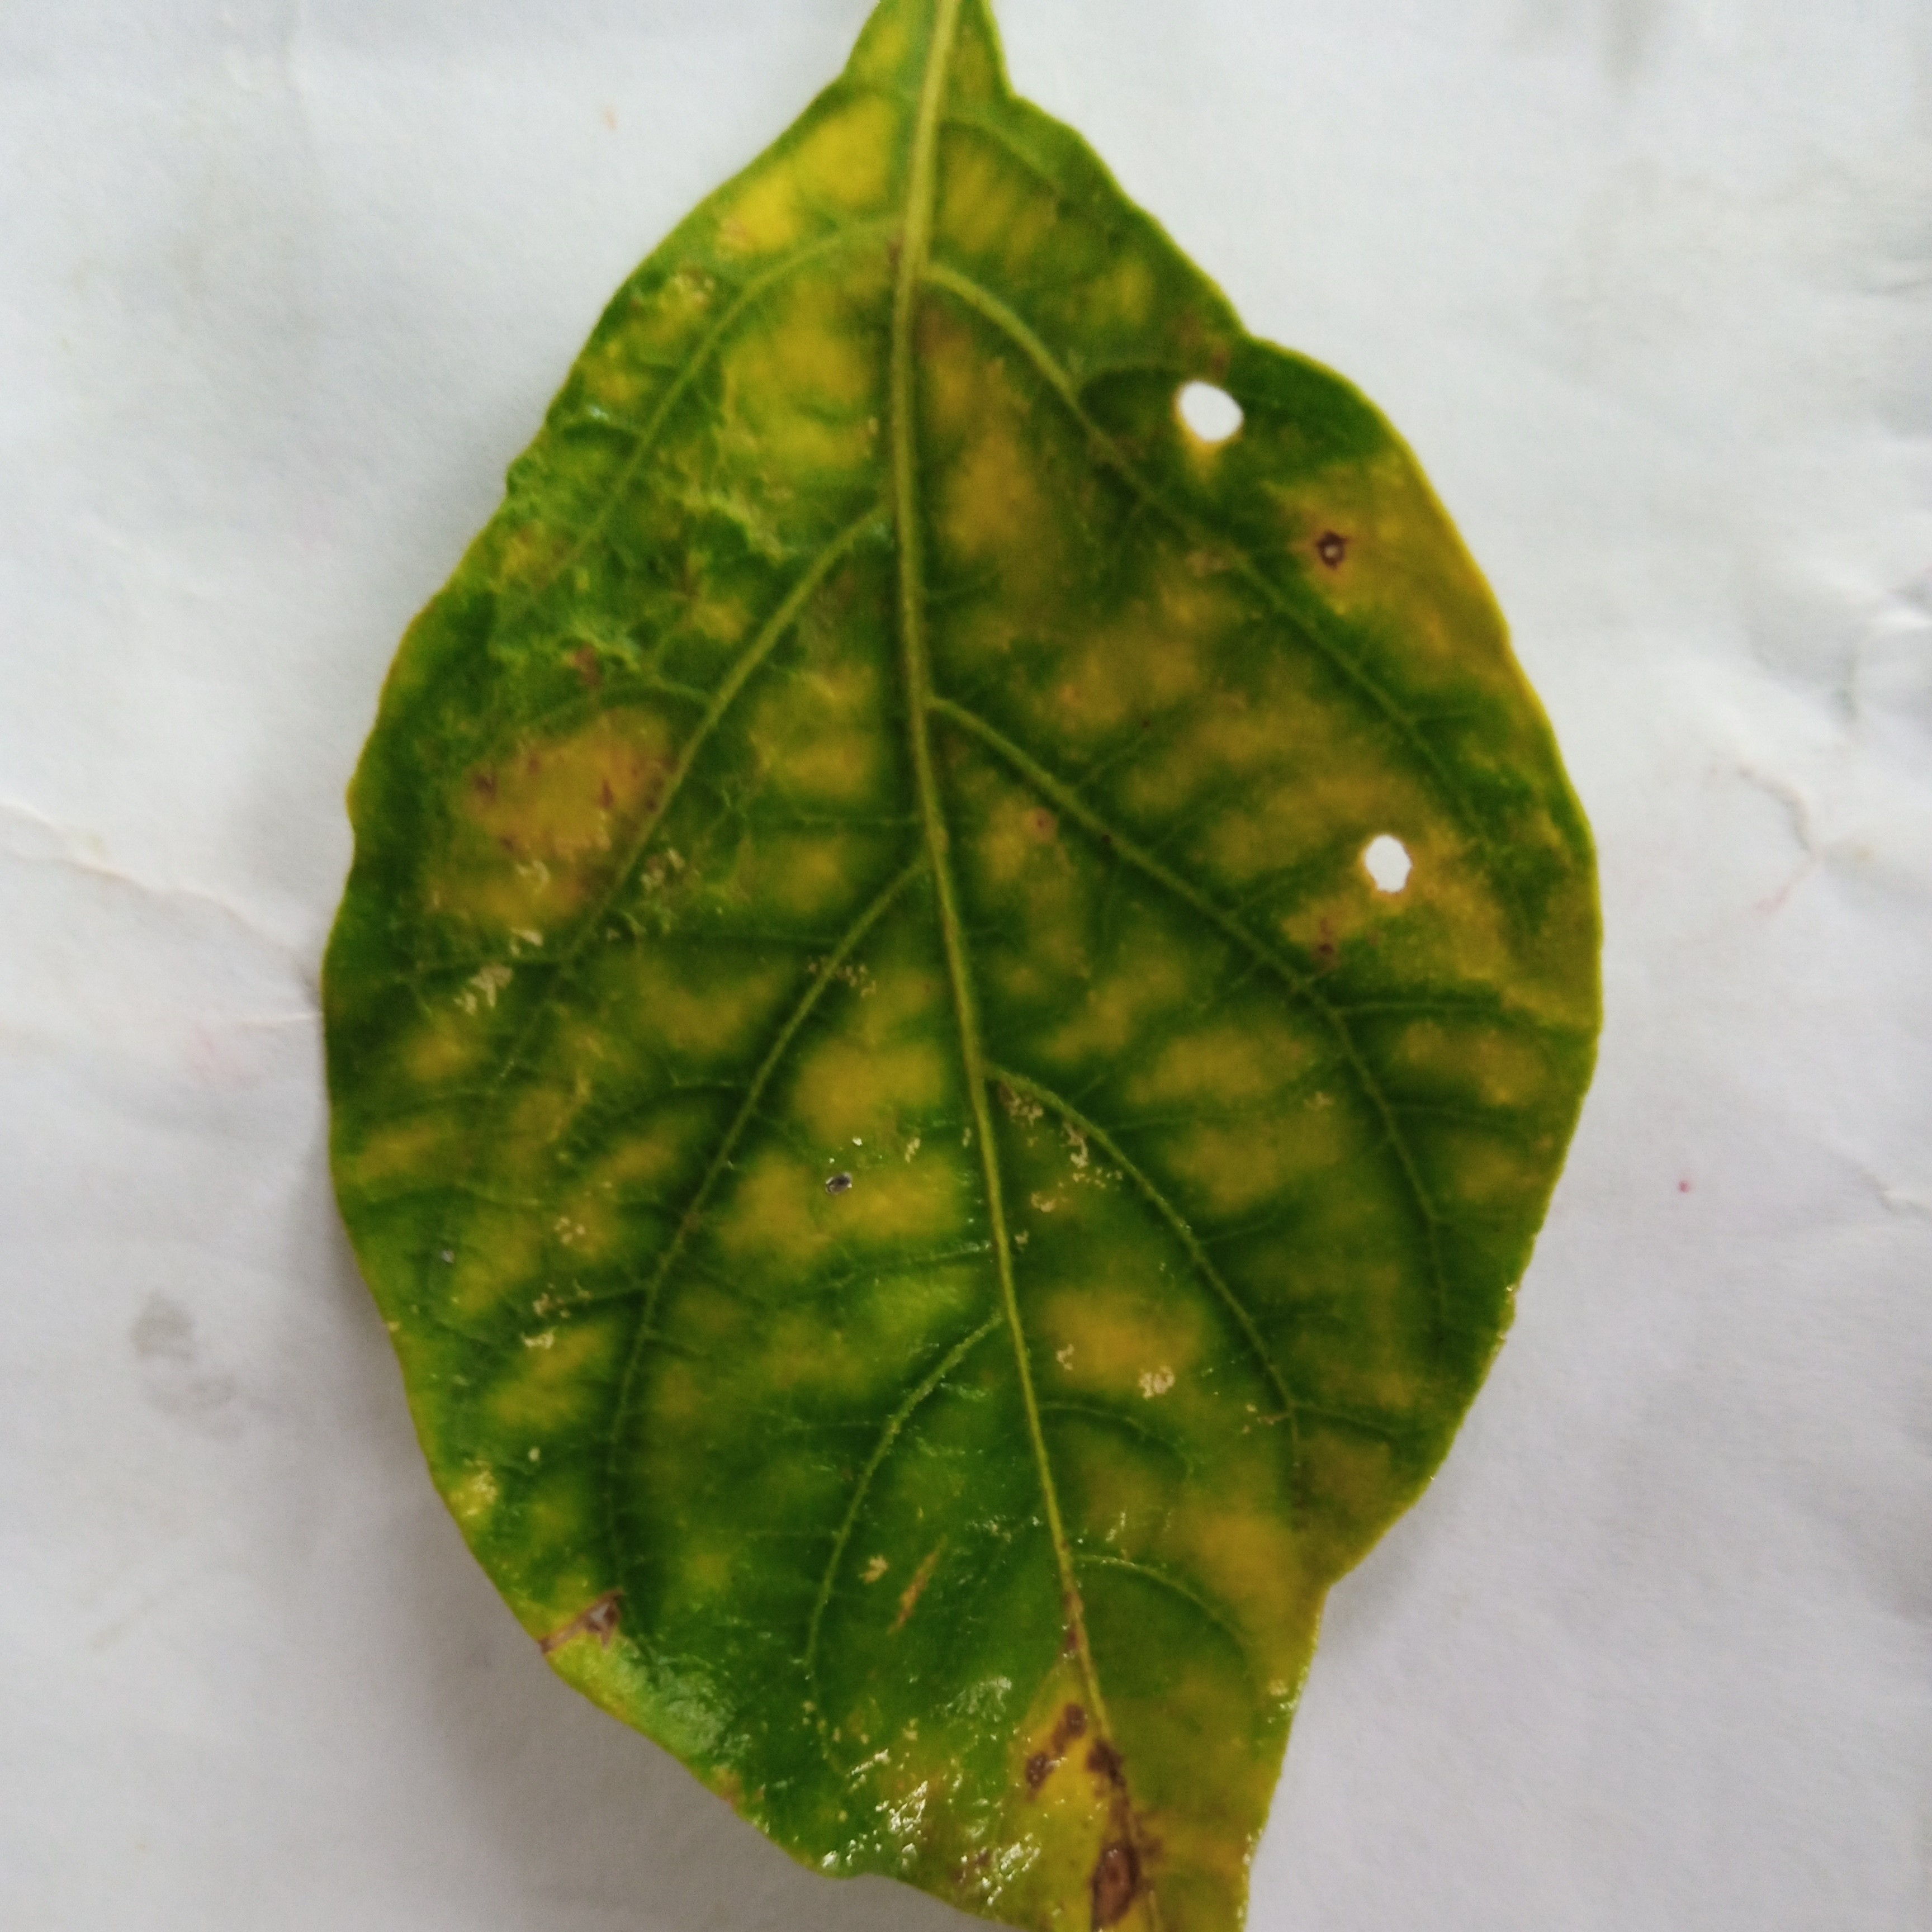Leaf: (260, 39, 1755, 1932)
